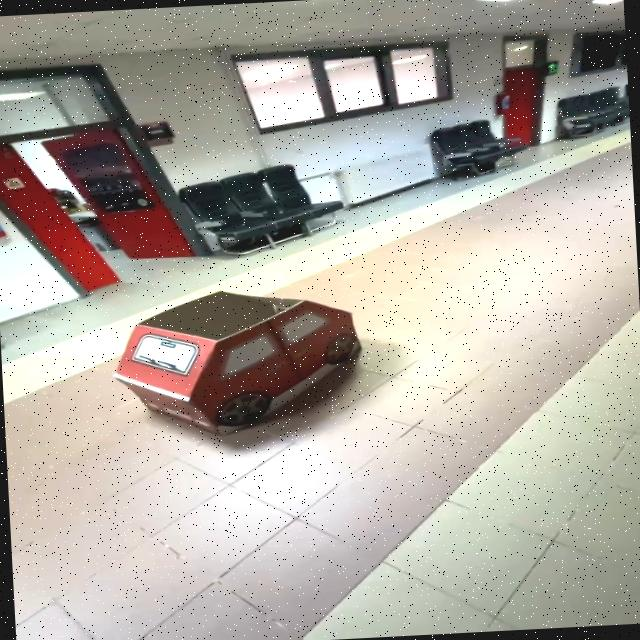red_car: (89, 269, 405, 463)
